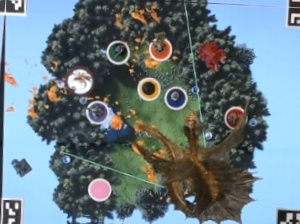blue: (162, 82, 189, 111)
green: (104, 36, 133, 67)
orange: (146, 33, 172, 60)
pink: (84, 173, 115, 202)
red: (221, 103, 249, 128)
violet: (80, 98, 112, 126)
yellow: (135, 73, 161, 101)
